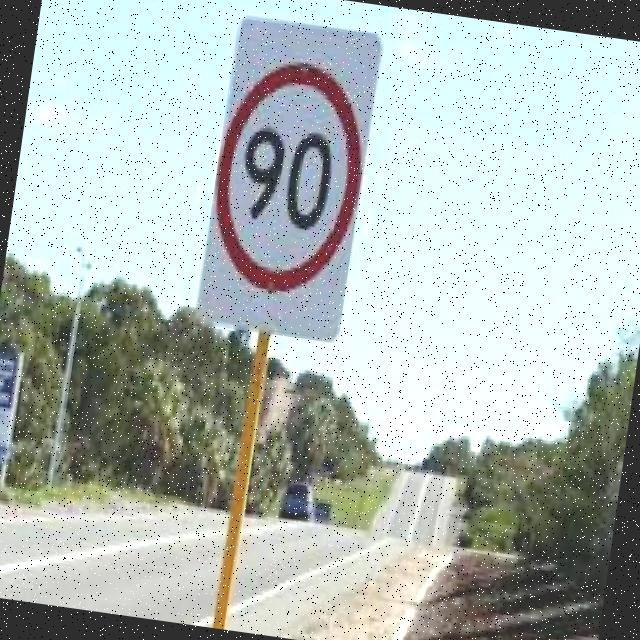Ograniczenie predkosci do 90: (208, 54, 371, 300)
